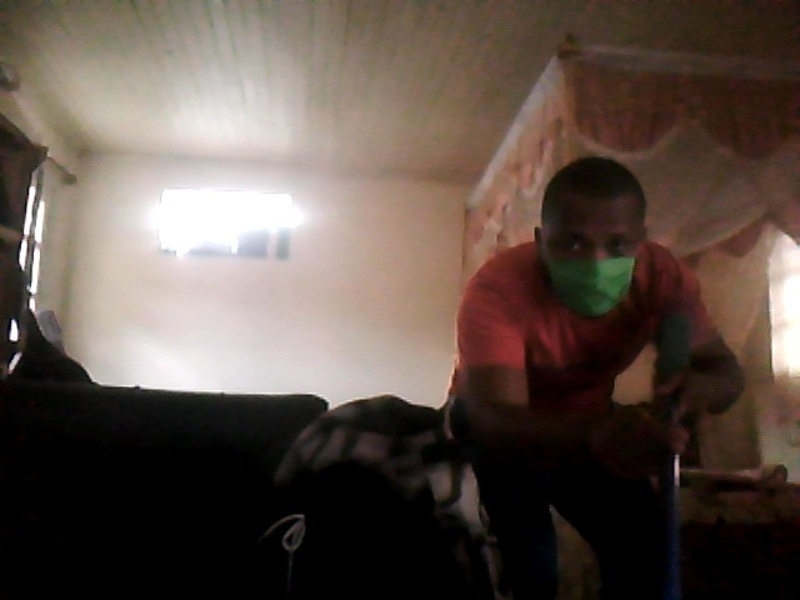ManaoArotava: (527, 149, 655, 332)
